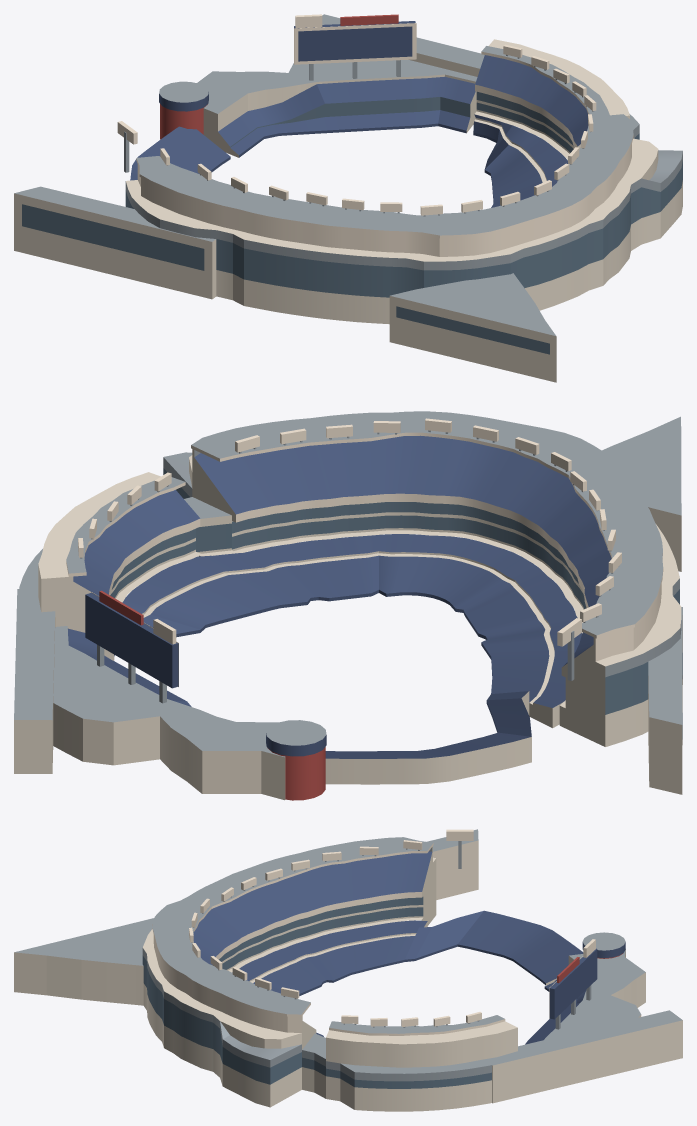
The model's file is dc-nationals-park.glb.
3 views of the same model, one above another, from view 1: azimuth 30°, elevation 25°; view 2: azimuth 150°, elevation 25°; view 3: azimuth 270°, elevation 25° (orthographic). The views are drawn at different scales.
Parts seen in each view (by area): view 1: Nationals Park; view 2: Nationals Park; view 3: Nationals Park.
Part boxes in pixels (x1=…): Nationals Park: x1=14, y1=14, x2=682, y2=382; Nationals Park: x1=14, y1=411, x2=682, y2=800; Nationals Park: x1=14, y1=829, x2=682, y2=1111.
Bounding box in the file's own units: 264 × 48 × 320.
